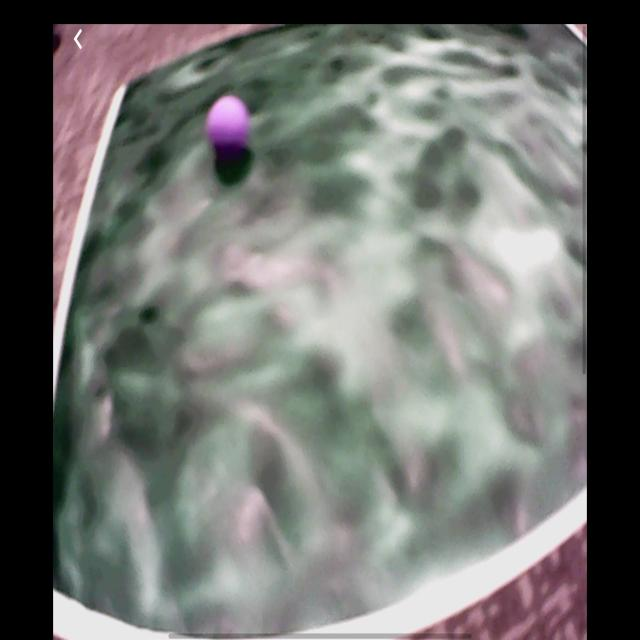ball: (207, 99, 250, 151)
